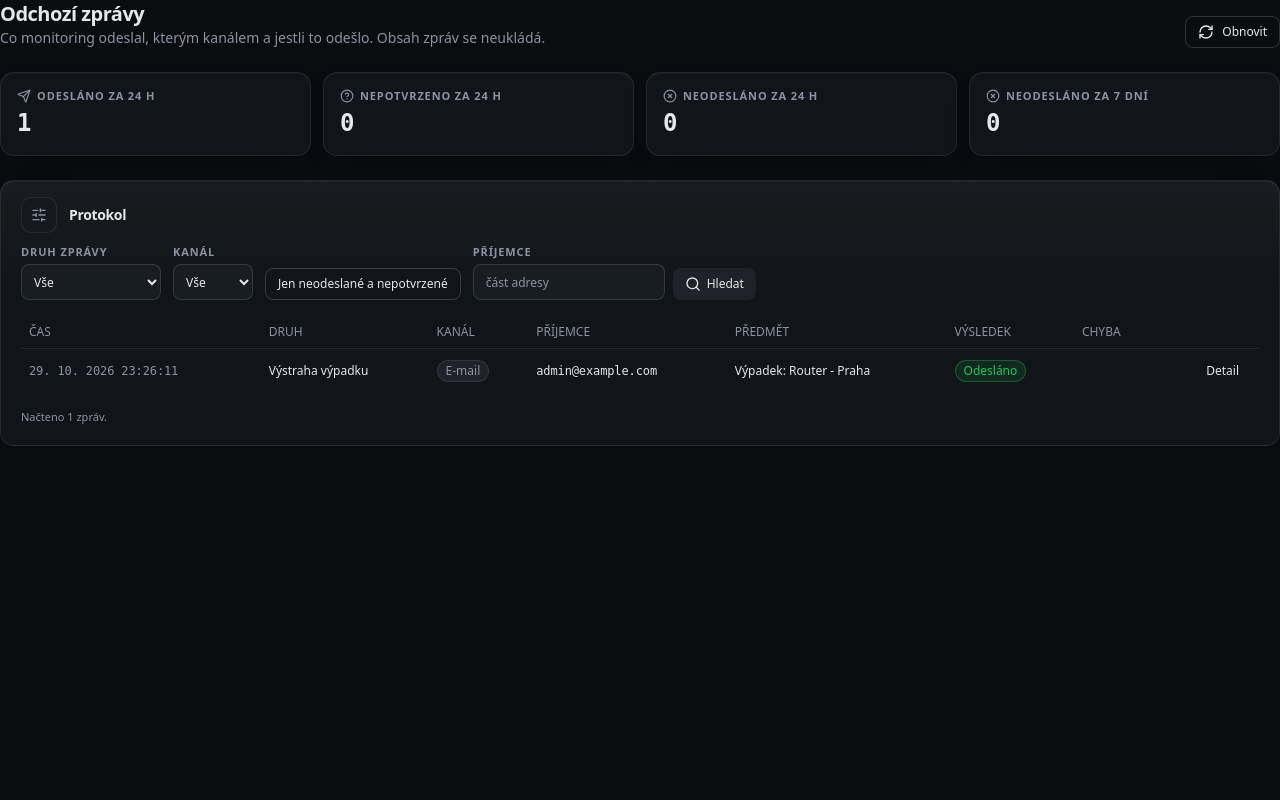
Scenario: Odchozí zprávy › starý řádek odvozený jako odeslaný si v detailu neprotiřečí
The image size is (1280, 800).
Check: the text "admin@example.com" is shown, box [528,348,727,393]
Click the button "Detail": (1223, 371) [1194,355,1251,387]
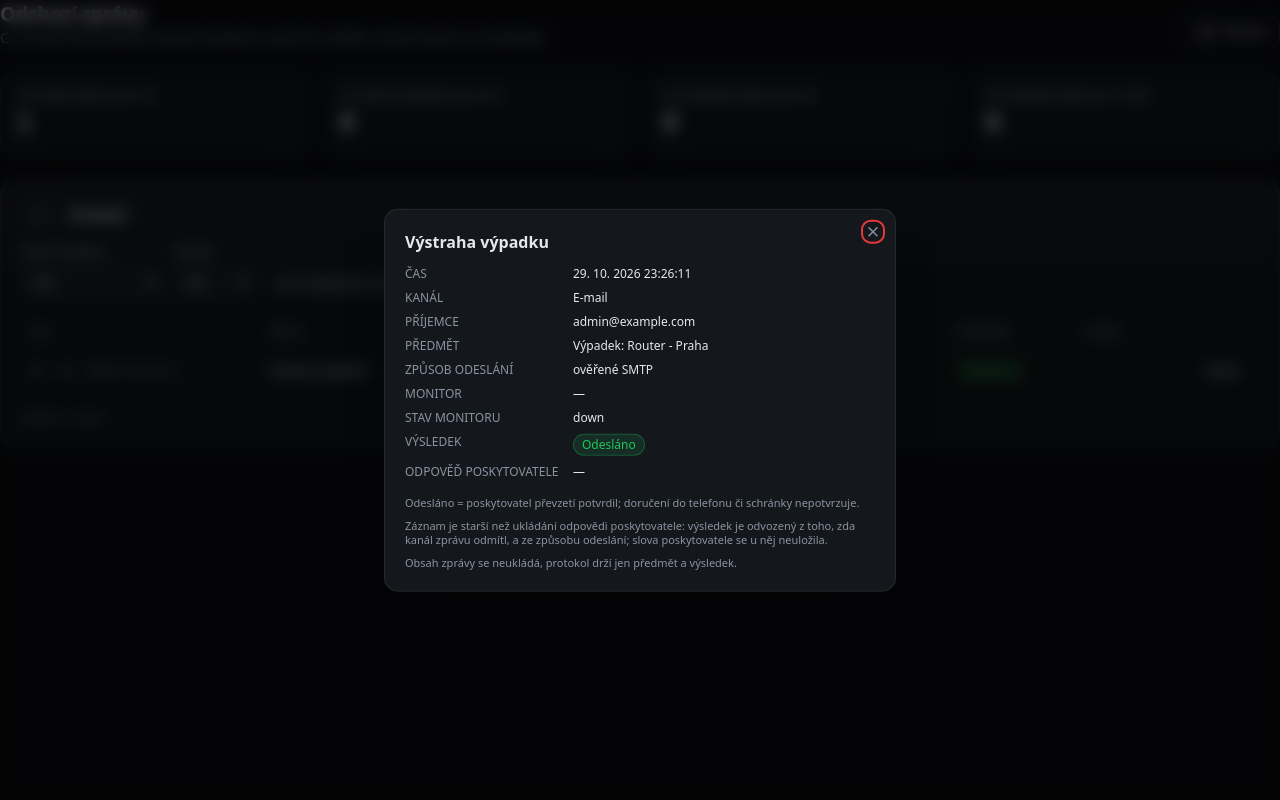
Check: the text "Odesláno" is shown, box [573,434,645,456]
Check: the dialog shows "ze způsobu odeslání", box [405,517,855,547]
